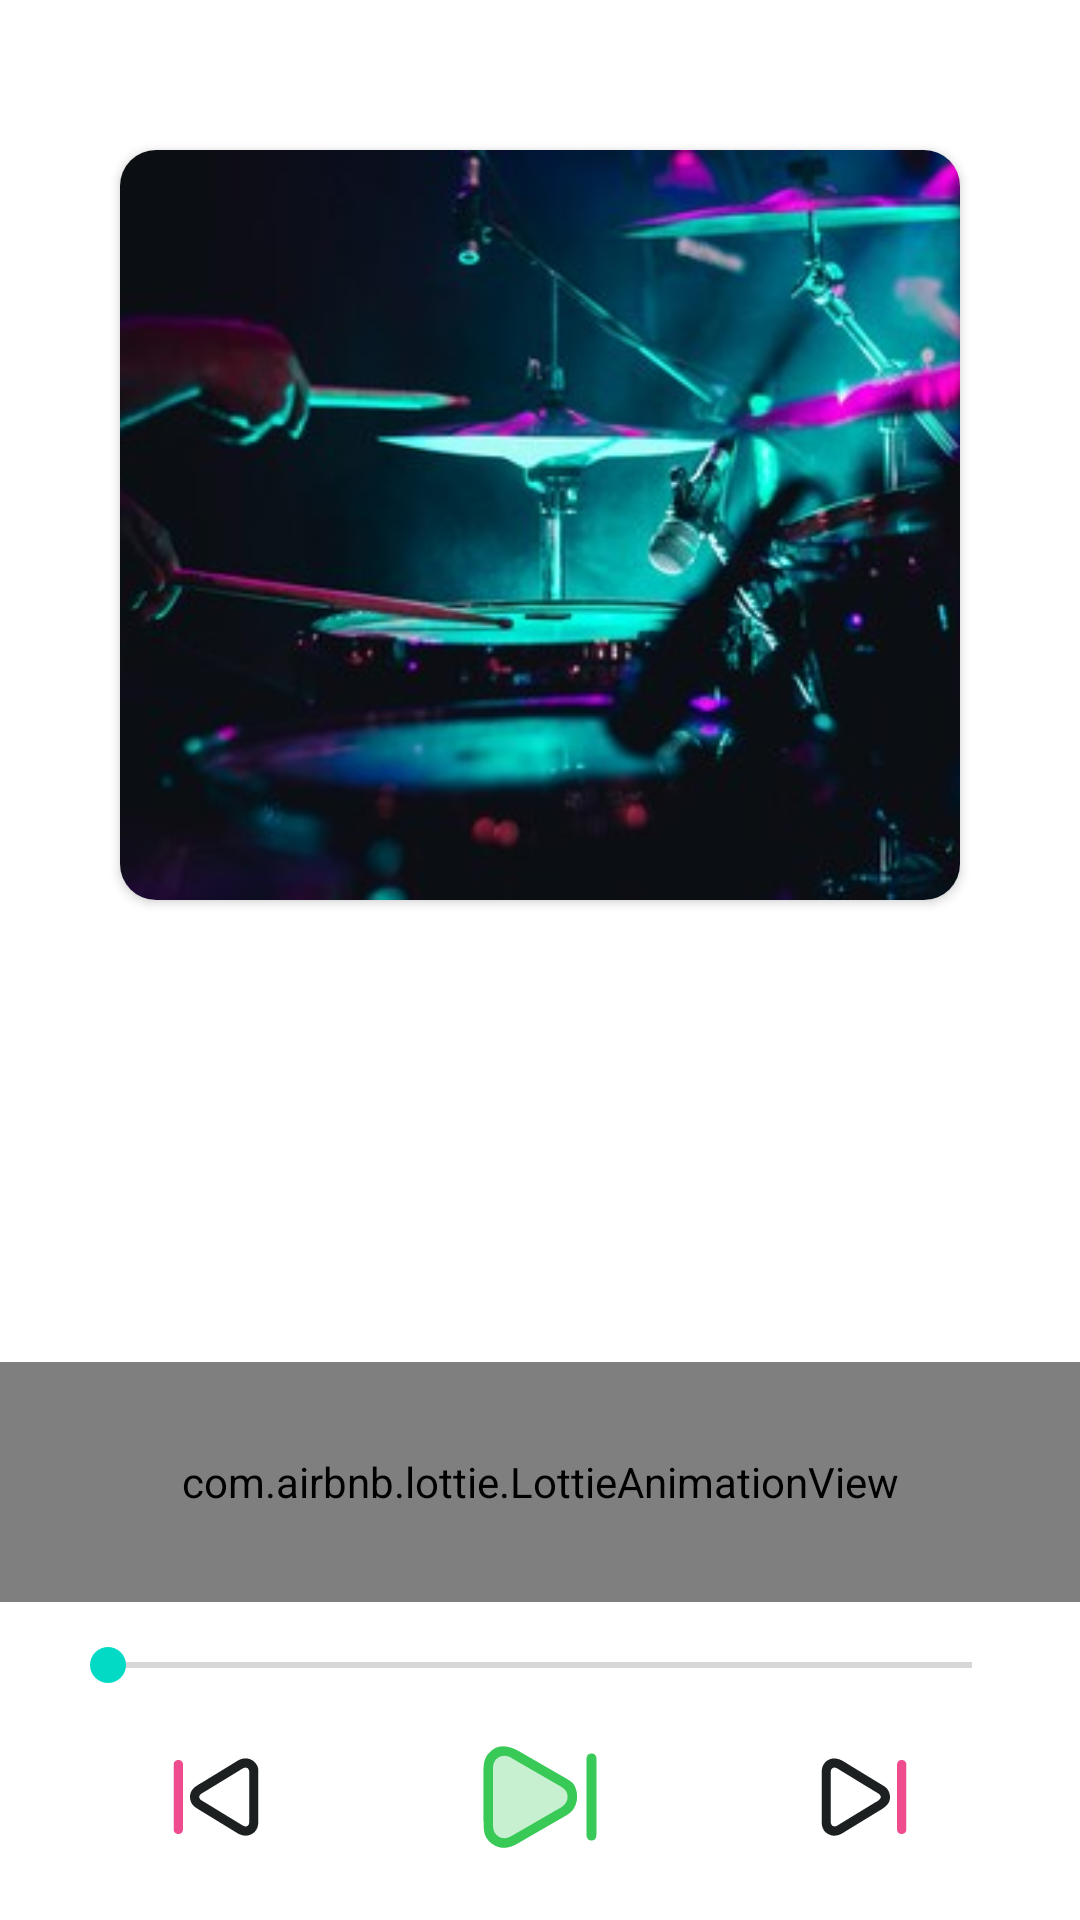

Screen size 1080*1920. Icon name, then its center in pixels as [x,y]:
next: [864,1797]
previous: [216,1797]
